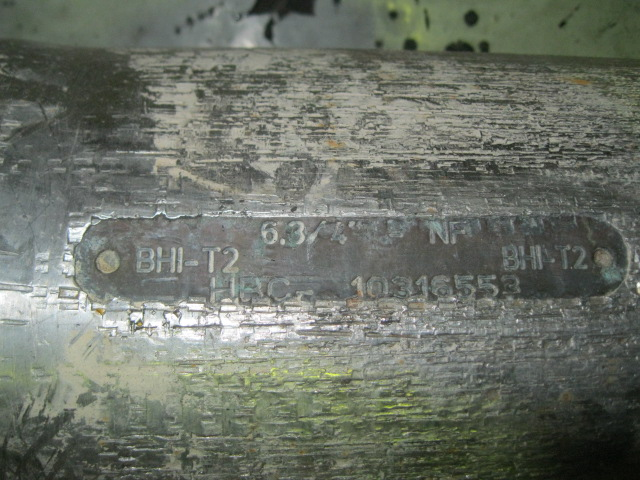character: (208, 274, 237, 305), (154, 244, 177, 277), (452, 272, 477, 302), (238, 275, 262, 306), (133, 245, 156, 277), (199, 243, 221, 276), (265, 276, 292, 302), (363, 274, 389, 301), (219, 246, 243, 275), (498, 272, 522, 301), (388, 273, 413, 300), (496, 244, 520, 272), (304, 218, 327, 247), (427, 218, 450, 247), (257, 218, 279, 247), (431, 273, 452, 303), (283, 218, 304, 247), (516, 243, 537, 272), (329, 219, 348, 248), (448, 219, 468, 246), (476, 272, 496, 299), (571, 242, 589, 272), (348, 273, 366, 300), (555, 242, 571, 272), (415, 274, 431, 303), (173, 245, 184, 279), (534, 245, 544, 269), (295, 287, 314, 297)
